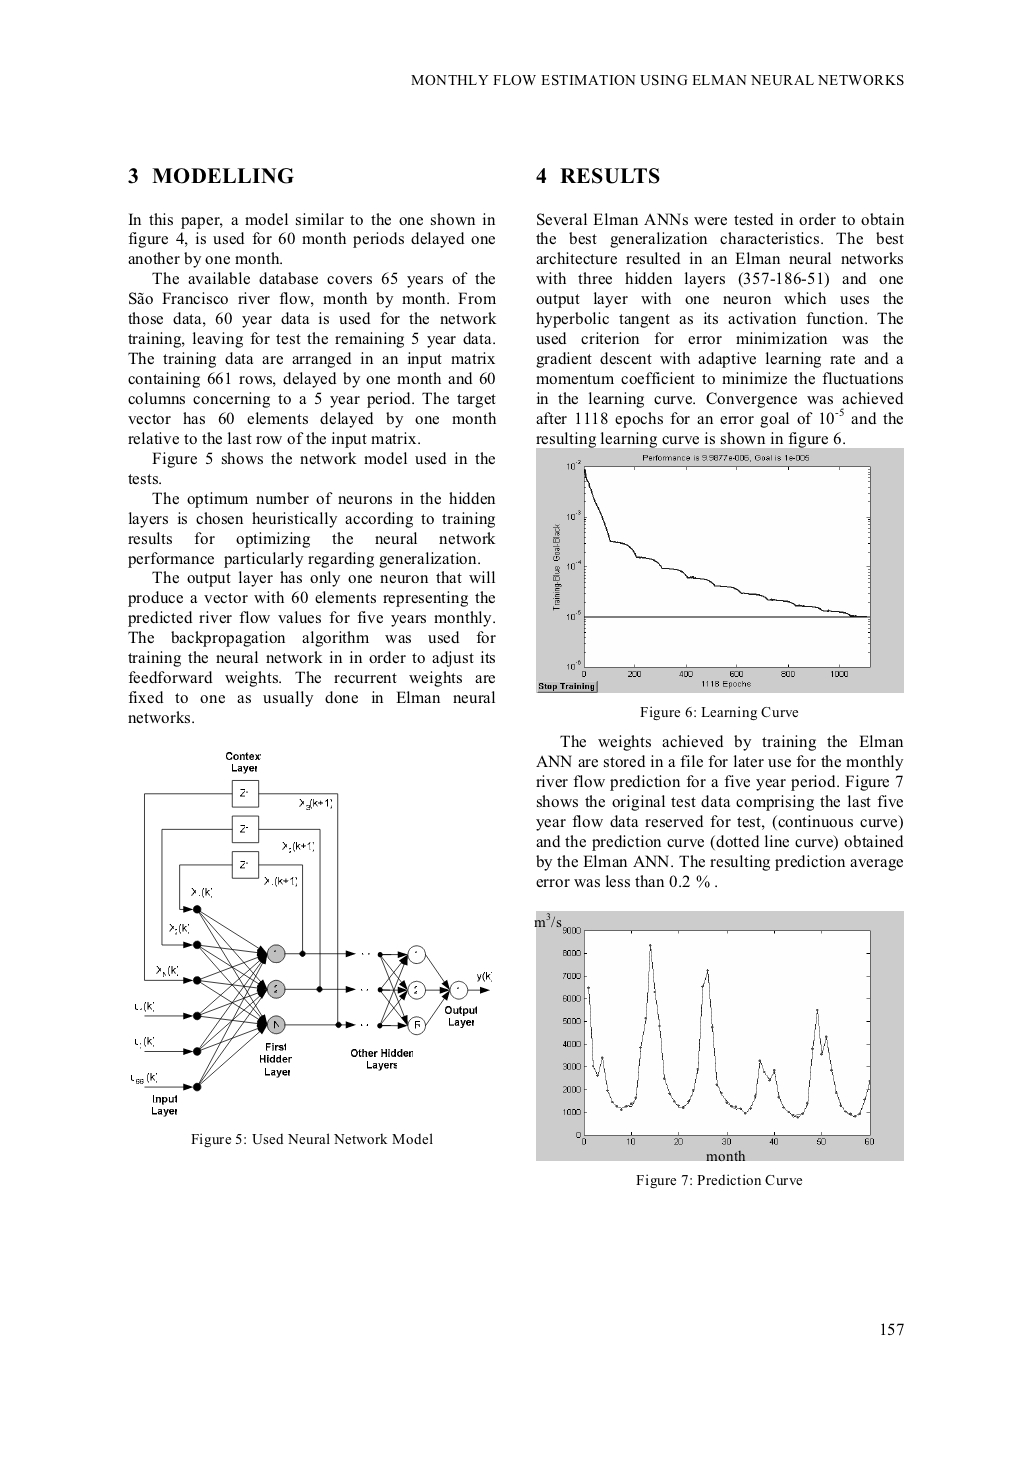figure: (131, 752, 491, 1115), (534, 910, 903, 1162), (536, 448, 903, 692)
